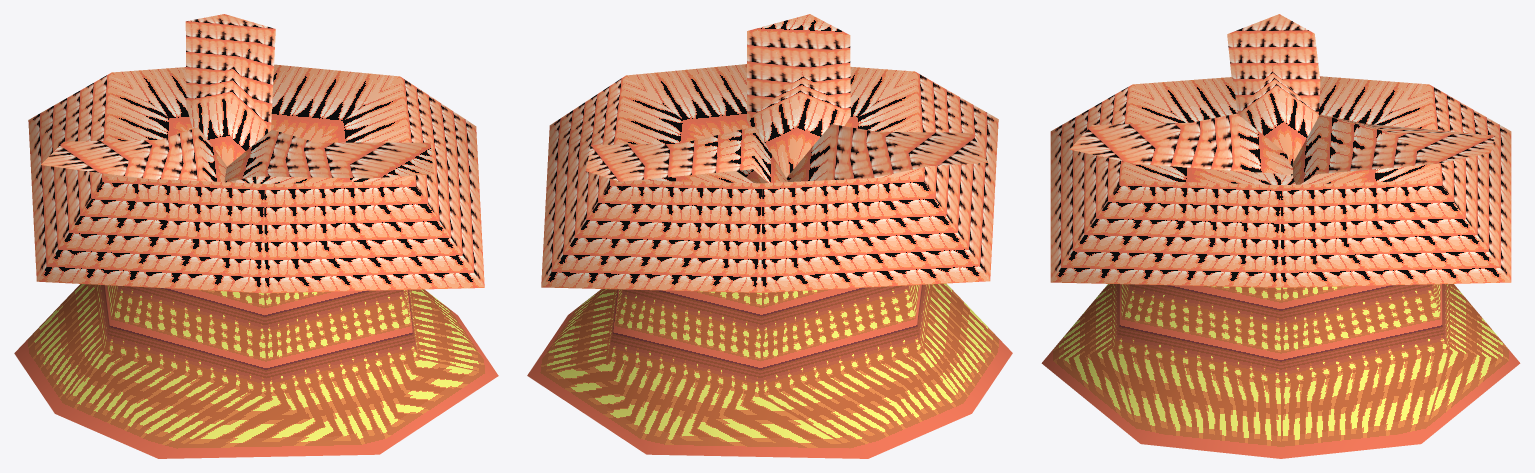
Rendered from 3583kg_24_isu.gltf.
The picture shows the model from 3 angles, left to right: view 1: azimuth 30°, elevation 25°; view 2: azimuth 150°, elevation 25°; view 3: azimuth 270°, elevation 25°; orthographic projection. The views are drawn at different scales.
Visible parts, largest first — view 1: 3583kg_24_isu; view 2: 3583kg_24_isu; view 3: 3583kg_24_isu.
Boxes of the visible parts, x1,y1,x2,y2 form: 3583kg_24_isu: (14, 14, 498, 458); 3583kg_24_isu: (527, 14, 1012, 458); 3583kg_24_isu: (1041, 14, 1520, 458).
Bounding box in the file's own units: 0.7991 × 0.4399 × 0.7754.
2 materials, 2 textured.
